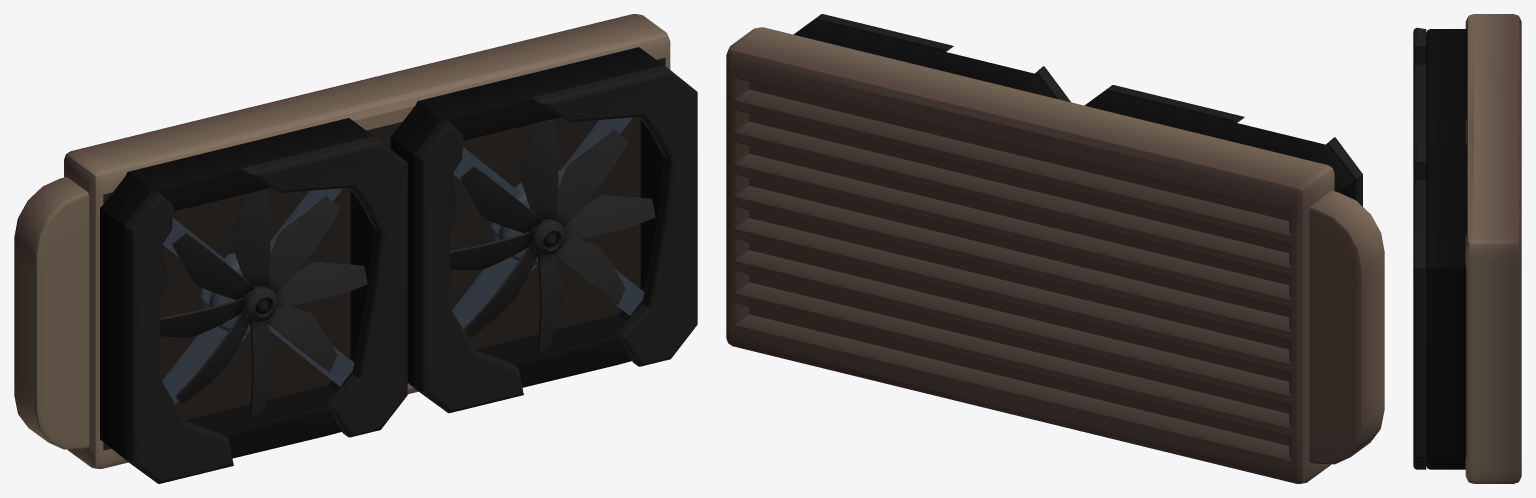
Rendered from Cooling_systems_lvl_10_V07.fbx.
3 views of the same model, side by side, from view 1: azimuth 30°, elevation 25°; view 2: azimuth 150°, elevation 25°; view 3: azimuth 270°, elevation 25° (orthographic). The views are drawn at different scales.
Parts seen in each view (by area): view 1: Body_Cooling, Fan_Cooling_01.001, Fan_Cooling_01; view 2: Body_Cooling; view 3: Body_Cooling.
Boxes of the visible parts, bbox=[...] form: Body_Cooling: bbox=[14, 14, 697, 483]; Fan_Cooling_01.001: bbox=[450, 119, 655, 351]; Fan_Cooling_01: bbox=[160, 189, 367, 418]; Body_Cooling: bbox=[726, 14, 1384, 483]; Body_Cooling: bbox=[1413, 14, 1521, 483].
Bounding box in the file's own units: 119 × 53.89 × 21.63.
